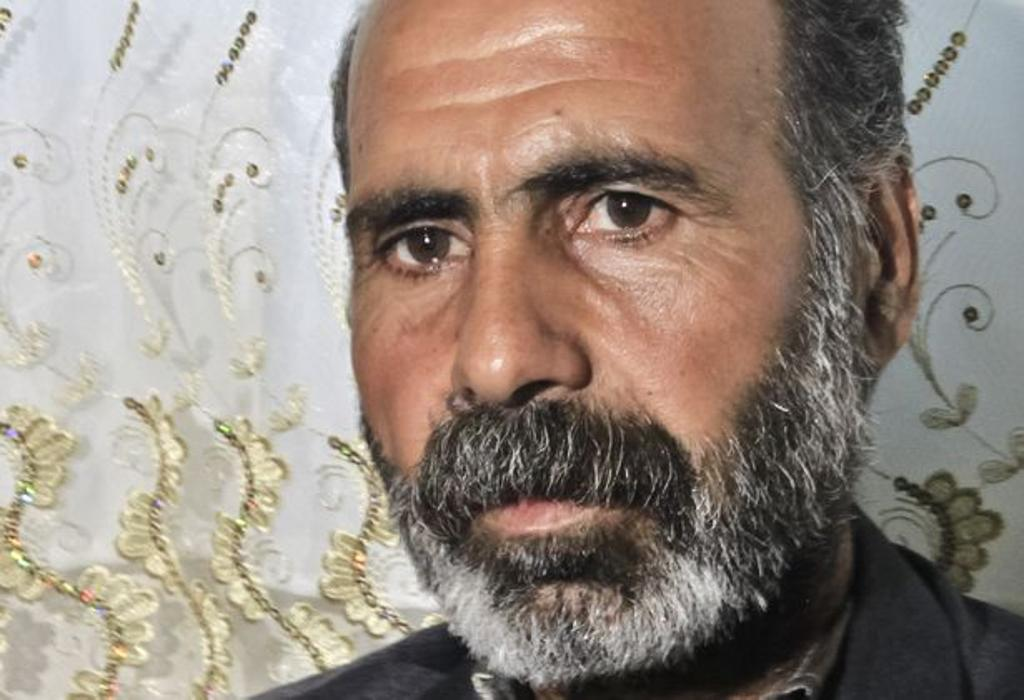face: (350, 8, 812, 654)
